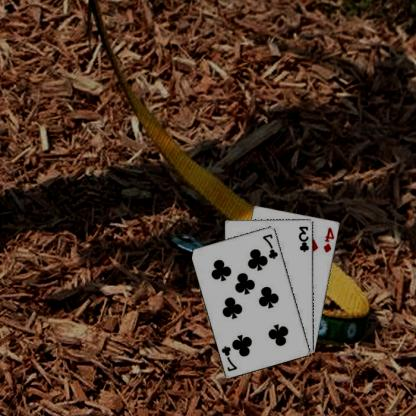3C: (298, 224, 312, 253)
4D: (323, 225, 337, 253)
7C: (262, 231, 281, 260), (221, 344, 240, 372)
